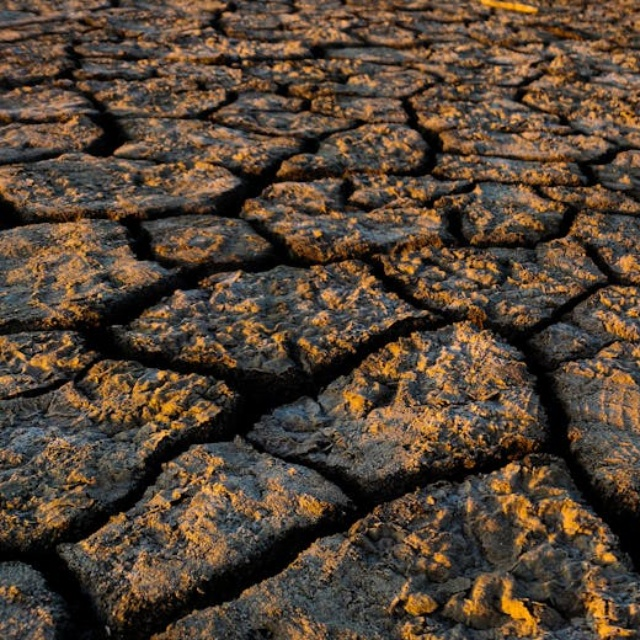深大裂缝: (0, 524, 330, 640)
网状裂隙: (0, 0, 640, 587)
